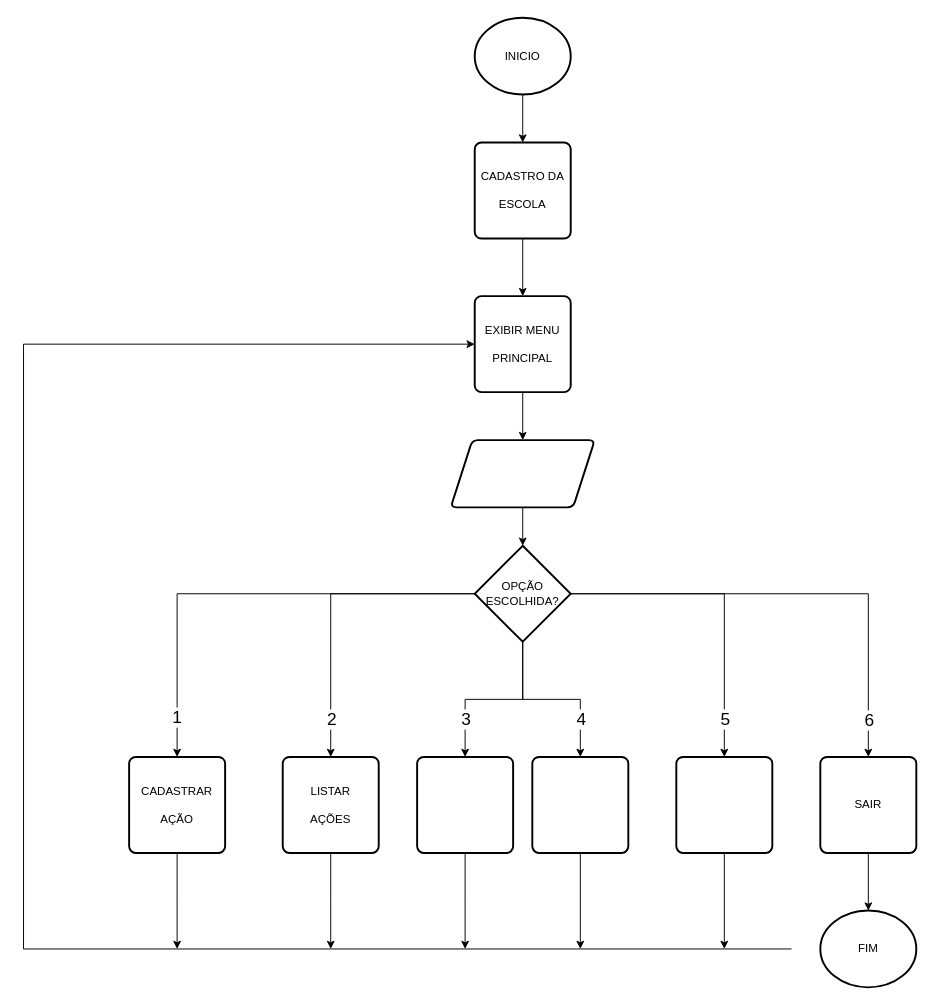
Image size: 934x1004. Some labels were removed from this diagram. Each missing label, with the centre of its shape:
ATUALIZAR SITUAÇÃO: the point at 580,804
DIGITAR OPÇÃO DO MENU: the point at 522,473
GERAR RESUMO: the point at 724,804
PESQUISAR: the point at 465,804
